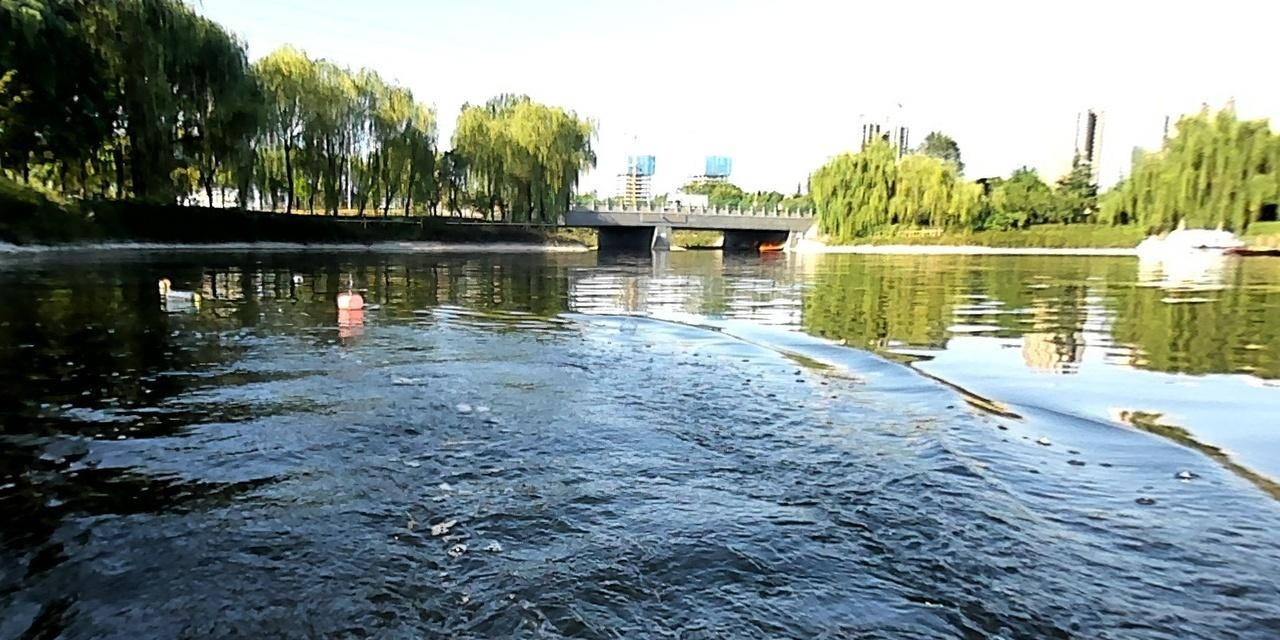bottle: (330, 291, 367, 310), (162, 286, 203, 303), (153, 275, 171, 288)
